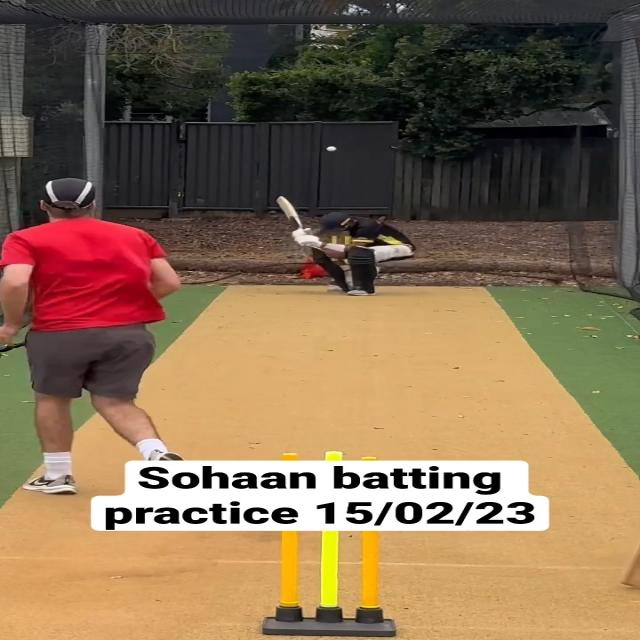ball: (326, 146, 338, 152)
stump: (264, 531, 395, 636)
